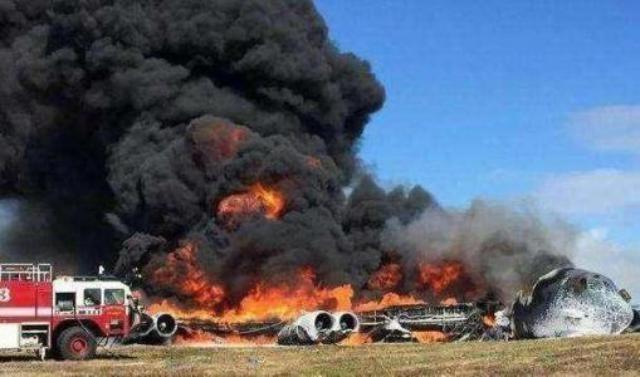fire: (242, 287, 290, 317), (292, 286, 348, 309), (421, 262, 461, 289), (248, 184, 278, 215), (217, 192, 247, 212), (172, 332, 216, 344), (214, 309, 256, 321), (193, 287, 219, 304), (174, 307, 208, 318), (178, 275, 200, 292), (411, 330, 442, 341), (146, 301, 172, 313), (342, 332, 368, 344), (381, 291, 399, 306), (356, 298, 376, 309), (400, 293, 422, 303), (224, 332, 242, 344), (480, 314, 492, 324)
